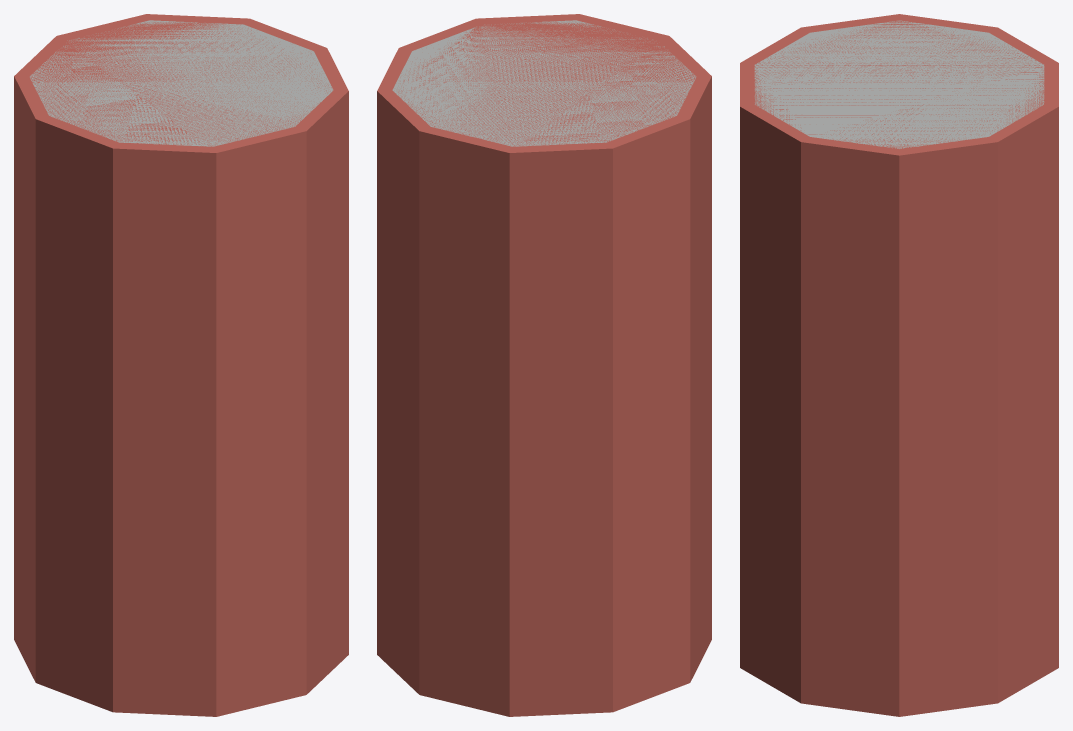
Rendered from sodacan.glb.
3 renders of one model, left to right at view 1: azimuth 30°, elevation 25°; view 2: azimuth 150°, elevation 25°; view 3: azimuth 270°, elevation 25°, orthographic.
Visible parts, largest first — view 1: NC_sodacan; view 2: NC_sodacan; view 3: NC_sodacan.
Boxes of the visible parts, x1,y1,x2,y2 form: NC_sodacan: (14, 14, 348, 716); NC_sodacan: (377, 14, 711, 716); NC_sodacan: (740, 14, 1058, 716).
Size of the model in its own units: 0.066 by 0.122 by 0.0628.
